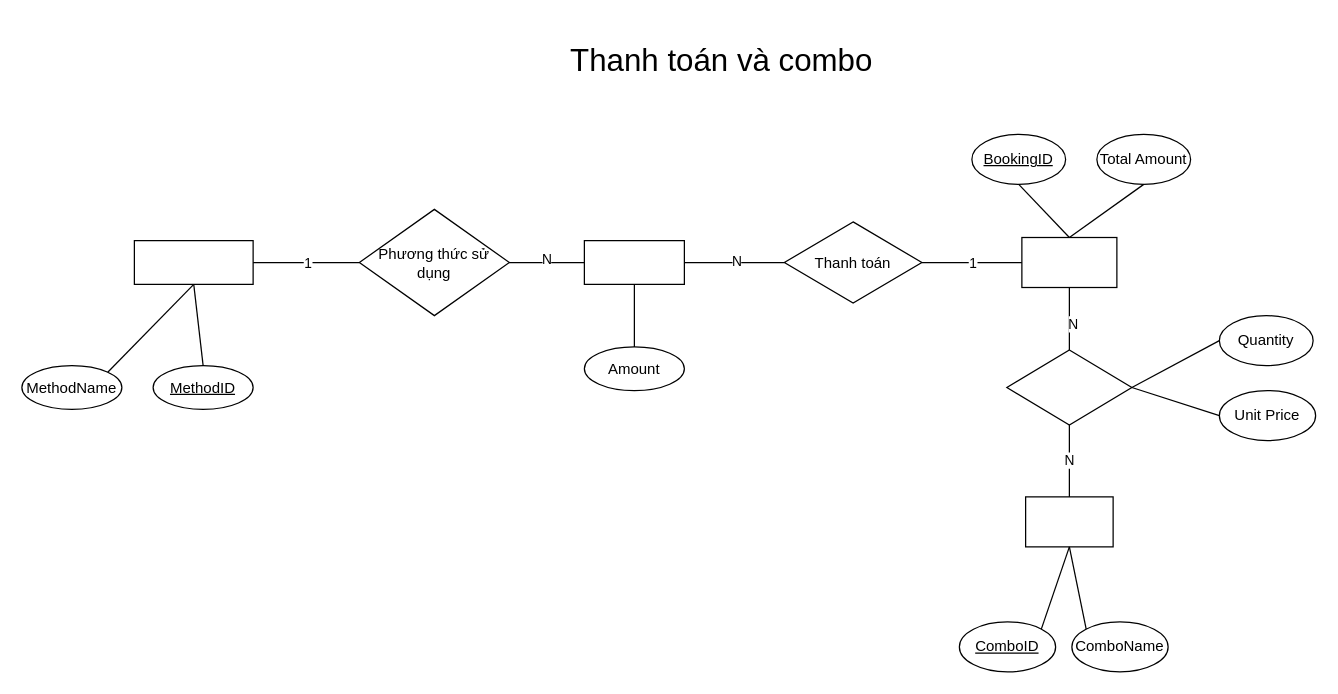
Image size: 1338x694. Some labels were removed from this diagram. Each missing label, with the box of its shape:
Booking combos: (1006, 349, 1132, 425)
Bookings: (1021, 236, 1117, 288)
Combos: (1024, 496, 1113, 547)
Payment: (583, 239, 684, 284)
PaymentMethod: (133, 239, 253, 284)
